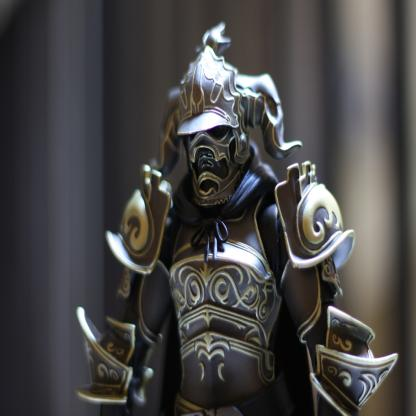Helmet: (150, 23, 304, 206)
